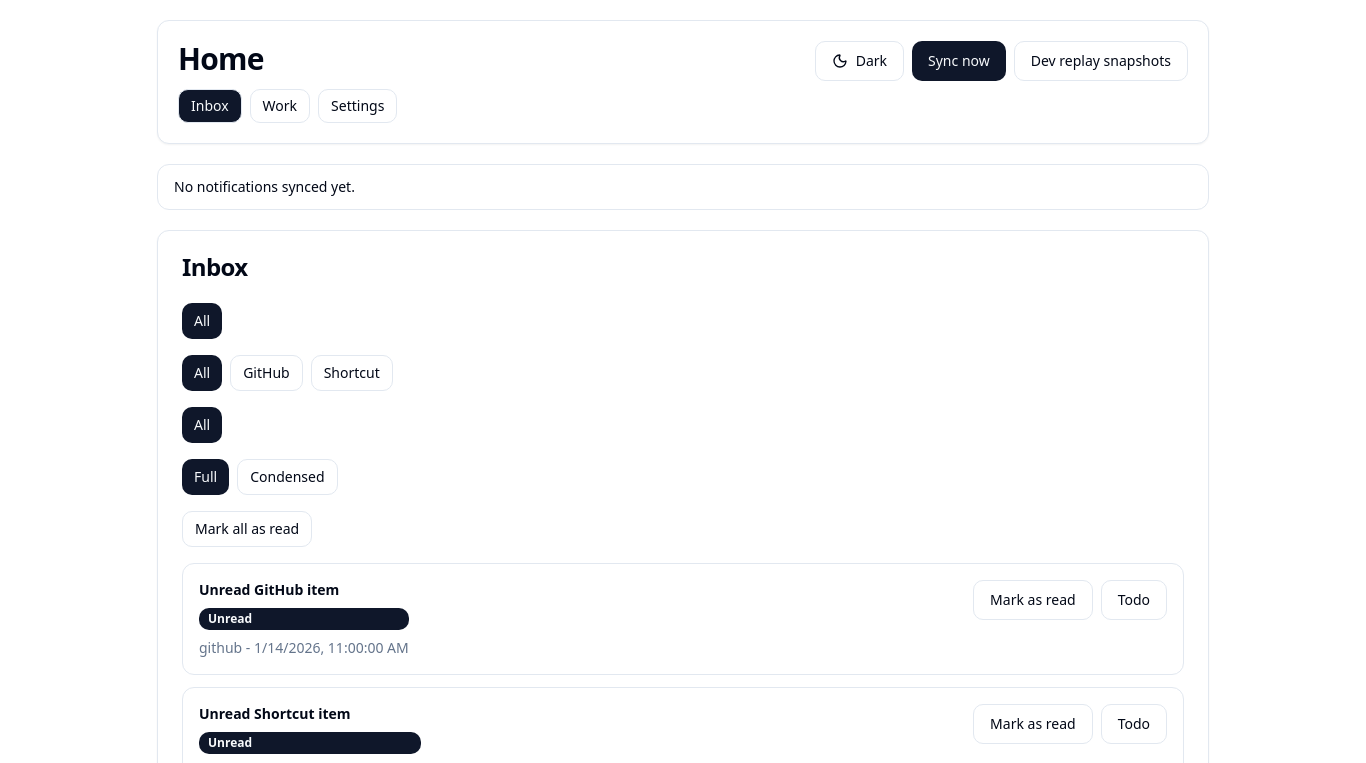
Test: App › marks all inbox items as read from Inbox controls
Check: the text "Unread GitHub item" is shown, box [199,580,339,599]
Check: the text "Unread Shortcut item" is shown, box [199,704,351,723]
Step 1. Click the button "Mark all as read" → coordinates (247, 529), box [182,511,312,547]
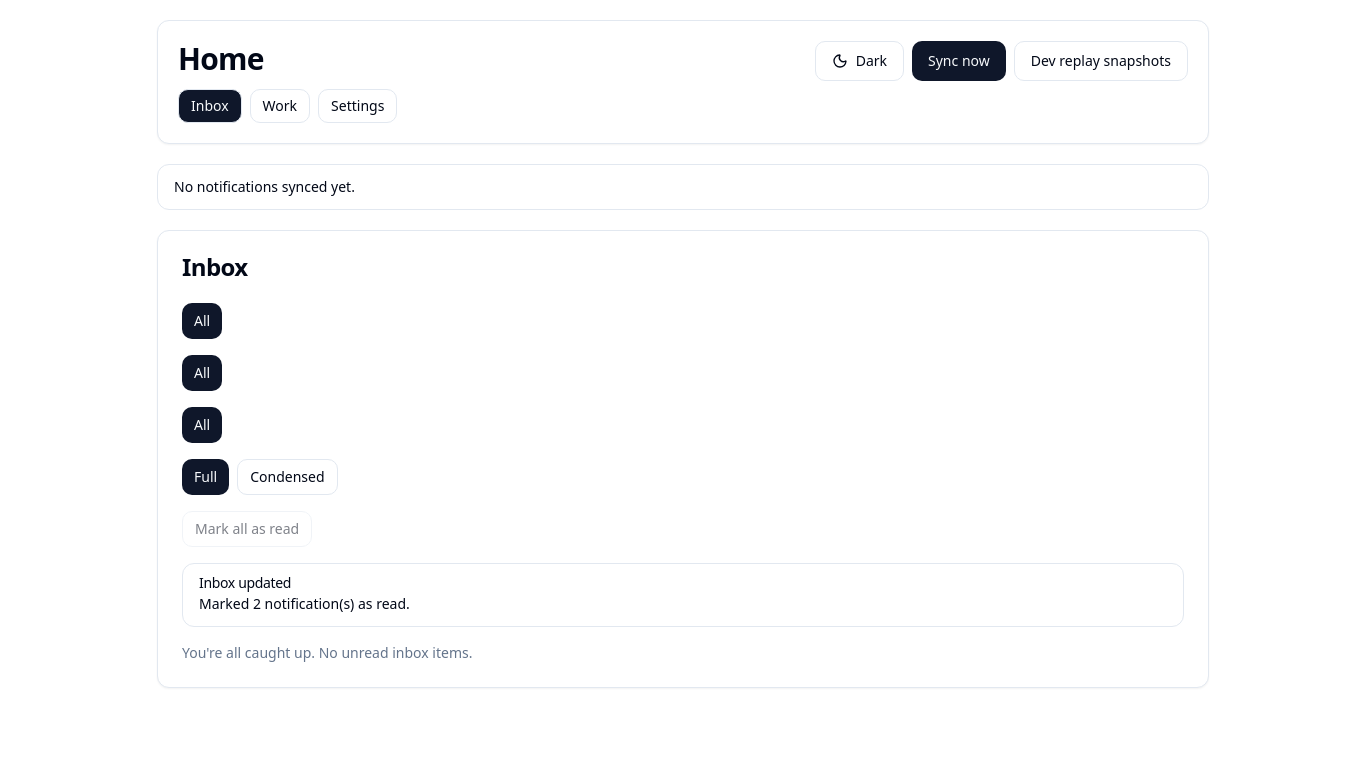
Check: the text "Marked 2 notification(s) as read." is shown, box [199,594,410,613]
Check: the text "You're all caught up. No unread inbox items." is shown, box [182,643,472,662]
Check: the text "Unread GitHub item" is gone
